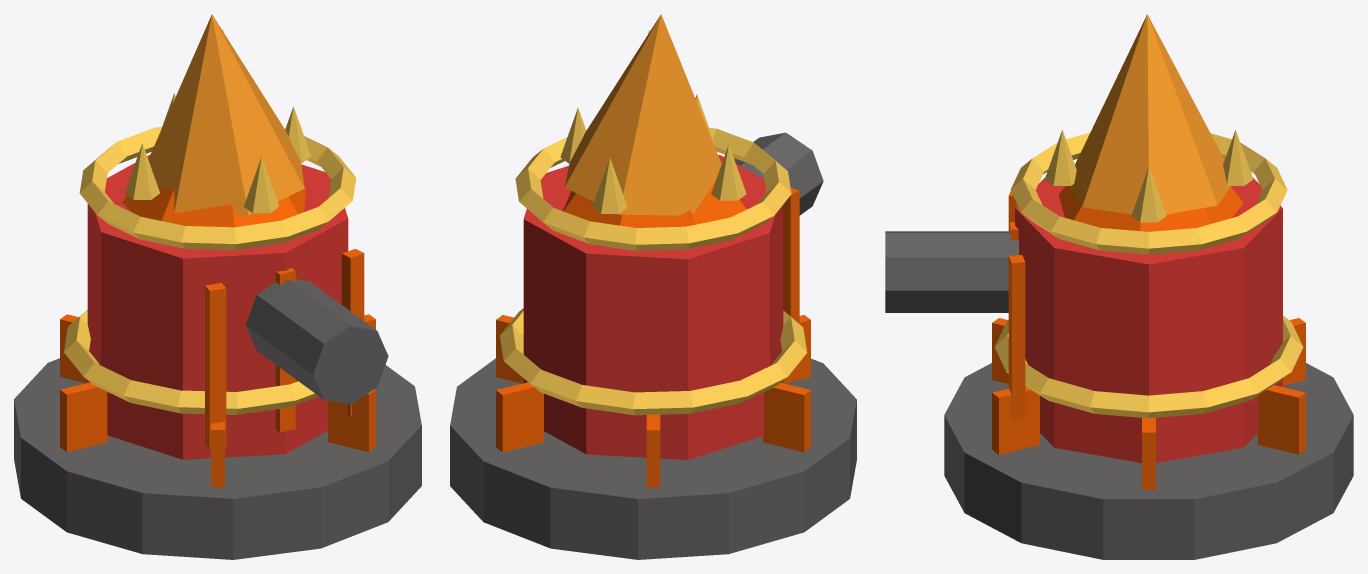
Rendered from TD_FireTower_T3.fbx.
The picture shows the model from 3 angles, left to right: view 1: azimuth 30°, elevation 25°; view 2: azimuth 150°, elevation 25°; view 3: azimuth 270°, elevation 25°; orthographic projection.
Parts seen in each view (by area): view 1: TD_FireTower_T3_Base, TD_FireTower_T3_InfernoBody, TD_FireTower_T3_Flame_Outer, TD_FireTower_T3_FrontNozzle, TD_FireTower_T3_HeatCrownRing, TD_FireTower_T3_LowerGoldRing, TD_FireTower_T3_Flame_RedLower, TD_FireTower_T3_EnergyVein_1, TD_FireTower_T3_LavaPlate_4, TD_FireTower_T3_LavaPlate_6, TD_FireTower_T3_EnergyVein_3, TD_FireTower_T3_HeatCrownPoint_4 (+5 smaller); view 2: TD_FireTower_T3_InfernoBody, TD_FireTower_T3_Base, TD_FireTower_T3_Flame_Outer, TD_FireTower_T3_HeatCrownRing, TD_FireTower_T3_LowerGoldRing, TD_FireTower_T3_LavaPlate_2, TD_FireTower_T3_LavaPlate_4, TD_FireTower_T3_Flame_RedLower, TD_FireTower_T3_FrontNozzle, TD_FireTower_T3_EnergyVein_1, TD_FireTower_T3_HeatCrownPoint_2, TD_FireTower_T3_LavaPlate_3 (+4 smaller); view 3: TD_FireTower_T3_InfernoBody, TD_FireTower_T3_Base, TD_FireTower_T3_Flame_Outer, TD_FireTower_T3_FrontNozzle, TD_FireTower_T3_HeatCrownRing, TD_FireTower_T3_LowerGoldRing, TD_FireTower_T3_Flame_RedLower, TD_FireTower_T3_LavaPlate_2, TD_FireTower_T3_EnergyVein_3, TD_FireTower_T3_LavaPlate_6, TD_FireTower_T3_HeatCrownPoint_1, TD_FireTower_T3_HeatCrownPoint_4 (+4 smaller).
Boxes of the visible parts, box(x1,y1,x2,y2) form: TD_FireTower_T3_Base: box(14, 358, 421, 559); TD_FireTower_T3_InfernoBody: box(87, 154, 348, 459); TD_FireTower_T3_Flame_Outer: box(148, 14, 304, 215); TD_FireTower_T3_FrontNozzle: box(245, 279, 388, 404); TD_FireTower_T3_HeatCrownRing: box(79, 126, 356, 250); TD_FireTower_T3_LowerGoldRing: box(64, 310, 318, 414); TD_FireTower_T3_Flame_RedLower: box(122, 185, 305, 227); TD_FireTower_T3_EnergyVein_1: box(205, 283, 226, 448); TD_FireTower_T3_LavaPlate_4: box(60, 382, 107, 451); TD_FireTower_T3_LavaPlate_6: box(328, 389, 375, 451); TD_FireTower_T3_EnergyVein_3: box(341, 249, 364, 415); TD_FireTower_T3_HeatCrownPoint_4: box(244, 157, 279, 213); TD_FireTower_T3_InfernoBody: box(523, 155, 783, 459); TD_FireTower_T3_Base: box(450, 358, 856, 559); TD_FireTower_T3_Flame_Outer: box(564, 14, 721, 215); TD_FireTower_T3_HeatCrownRing: box(515, 127, 791, 250); TD_FireTower_T3_LowerGoldRing: box(500, 308, 807, 415); TD_FireTower_T3_LavaPlate_2: box(496, 382, 543, 452); TD_FireTower_T3_LavaPlate_4: box(763, 383, 810, 452); TD_FireTower_T3_Flame_RedLower: box(563, 180, 746, 227); TD_FireTower_T3_FrontNozzle: box(734, 132, 823, 215); TD_FireTower_T3_EnergyVein_1: box(783, 188, 799, 323); TD_FireTower_T3_HeatCrownPoint_2: box(711, 144, 746, 200); TD_FireTower_T3_LavaPlate_3: box(646, 414, 660, 487); TD_FireTower_T3_InfernoBody: box(1015, 177, 1282, 462); TD_FireTower_T3_Base: box(944, 363, 1353, 559); TD_FireTower_T3_Flame_Outer: box(1069, 14, 1230, 214); TD_FireTower_T3_FrontNozzle: box(885, 231, 1018, 312); TD_FireTower_T3_HeatCrownRing: box(1010, 132, 1287, 254); TD_FireTower_T3_LowerGoldRing: box(995, 315, 1303, 417); TD_FireTower_T3_Flame_RedLower: box(1058, 186, 1243, 231); TD_FireTower_T3_LavaPlate_2: box(1258, 385, 1305, 454); TD_FireTower_T3_EnergyVein_3: box(1008, 255, 1025, 420); TD_FireTower_T3_LavaPlate_6: box(992, 386, 1039, 454); TD_FireTower_T3_HeatCrownPoint_1: box(1131, 166, 1166, 222); TD_FireTower_T3_HeatCrownPoint_4: box(1044, 130, 1076, 185).
Bounding box in the file's own units: 1.01 × 1.28 × 1.19.
